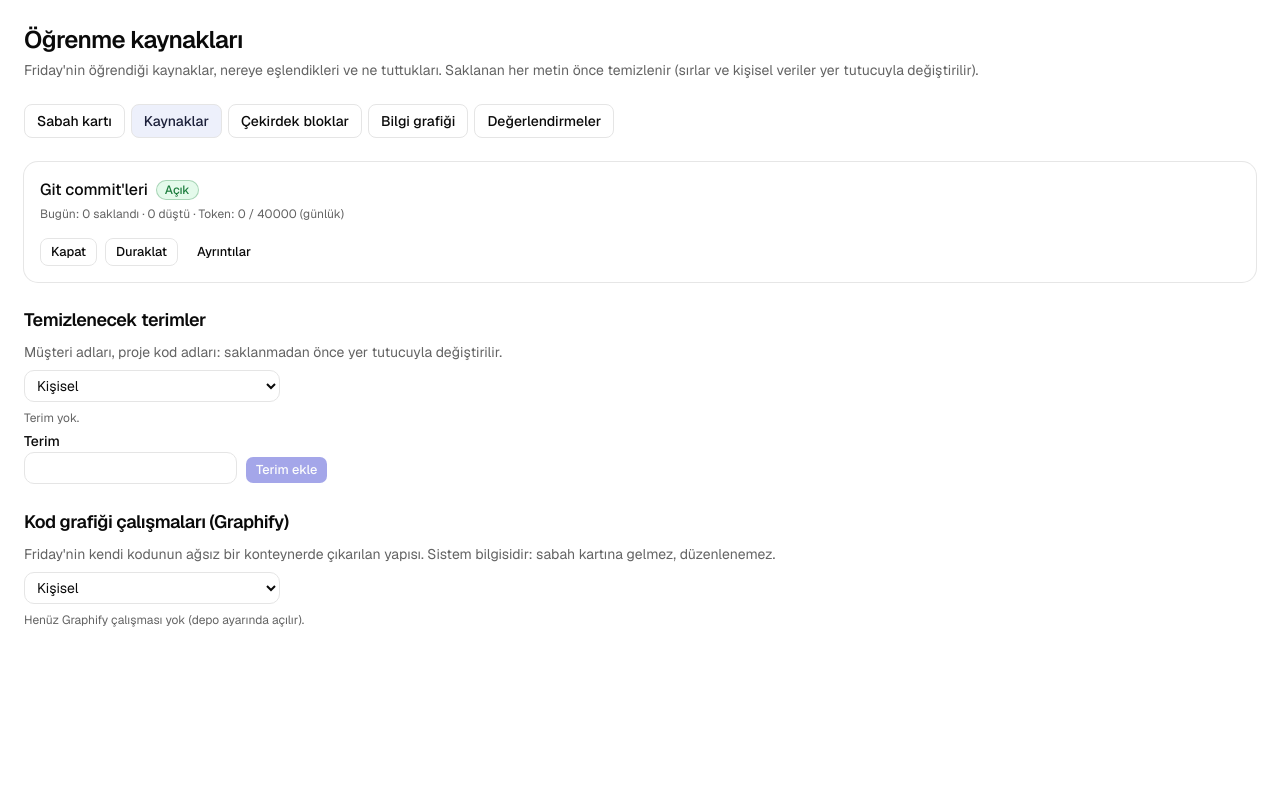
Test case: IngestionView › shows counters, the last scrubbed items, scrubber hits and unmapped keys
Click the button "Ayrıntılar": (224, 252) x1=186 y1=238 x2=262 y2=266
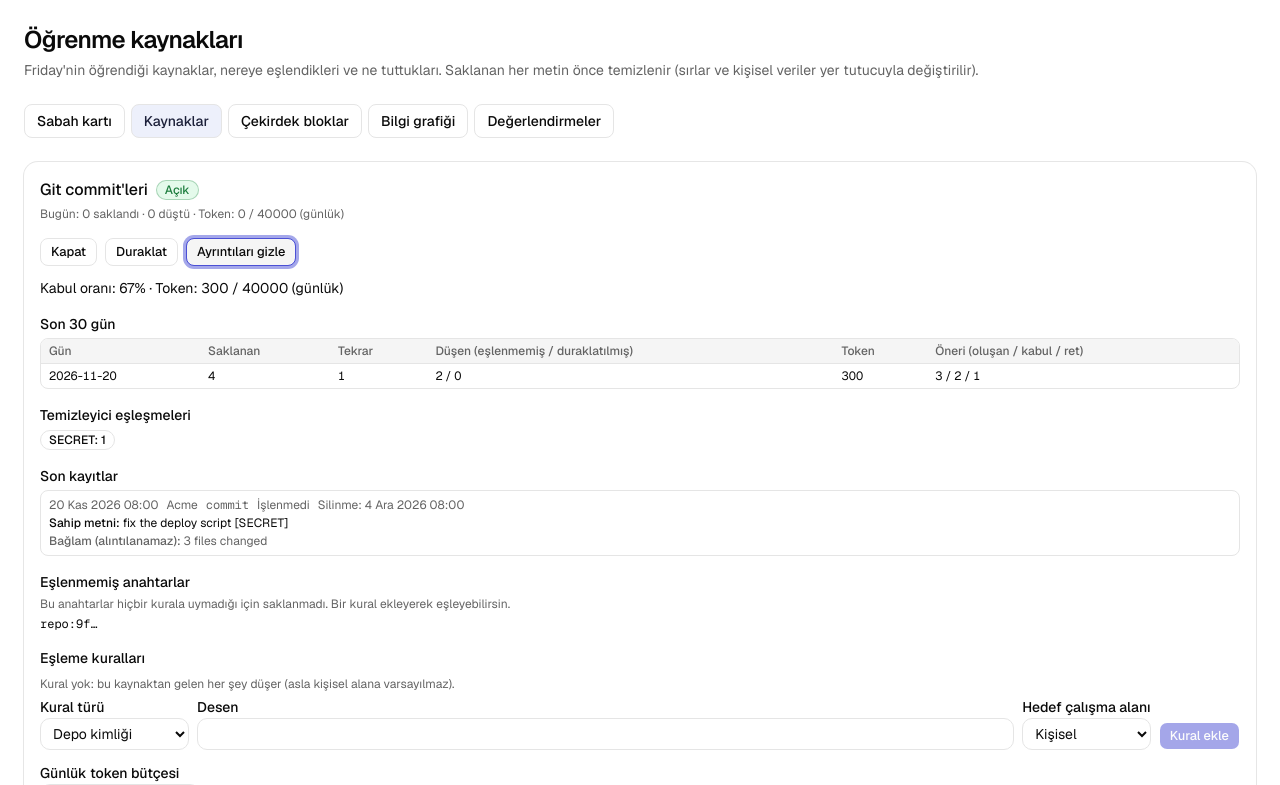
Result: the table with test id "ingestion-counters" shows "2026-11-20" at x1=49 y1=368 x2=117 y2=384
Result: the list with test id "ingestion-episodes" shows "fix the deploy script [SECRET]" at x1=123 y1=515 x2=288 y2=531
Result: the list with test id "ingestion-episodes" shows "Acme" at x1=166 y1=497 x2=198 y2=513
